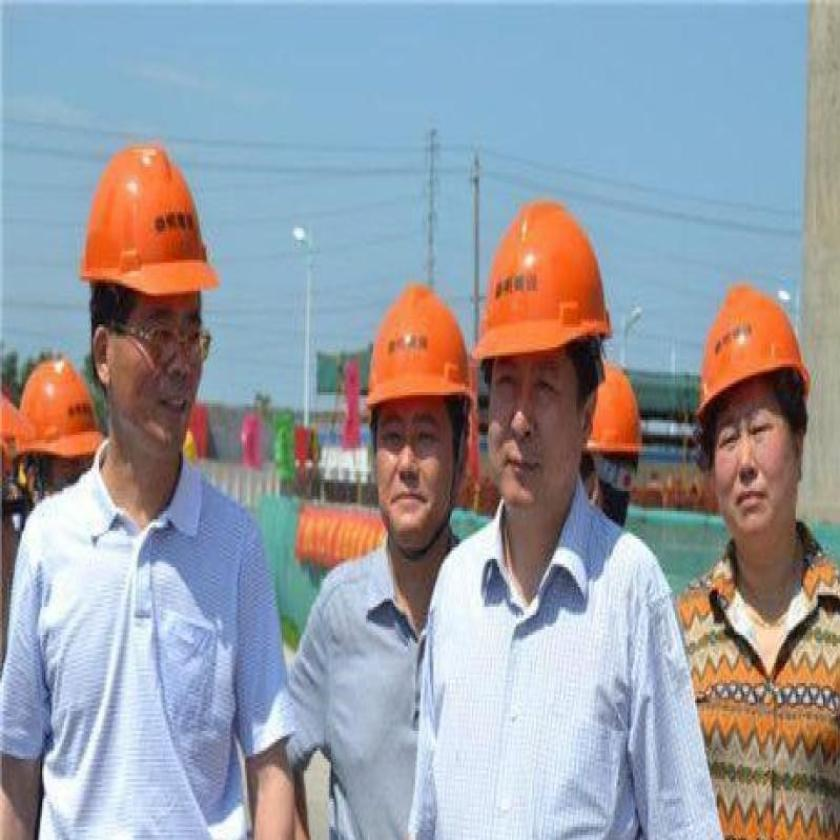Con_casco: (57, 72, 259, 531), (666, 208, 830, 602), (470, 184, 611, 554), (349, 284, 486, 620), (588, 358, 644, 528)
